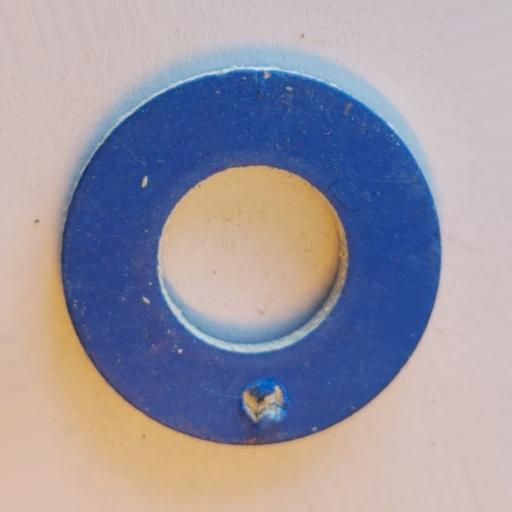defect: (238, 375, 293, 432)
